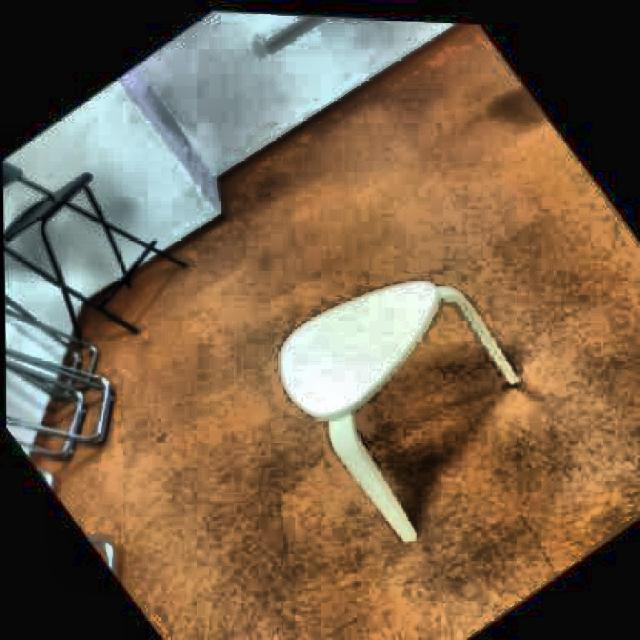cadeira: (270, 274, 542, 554), (2, 92, 223, 394)
